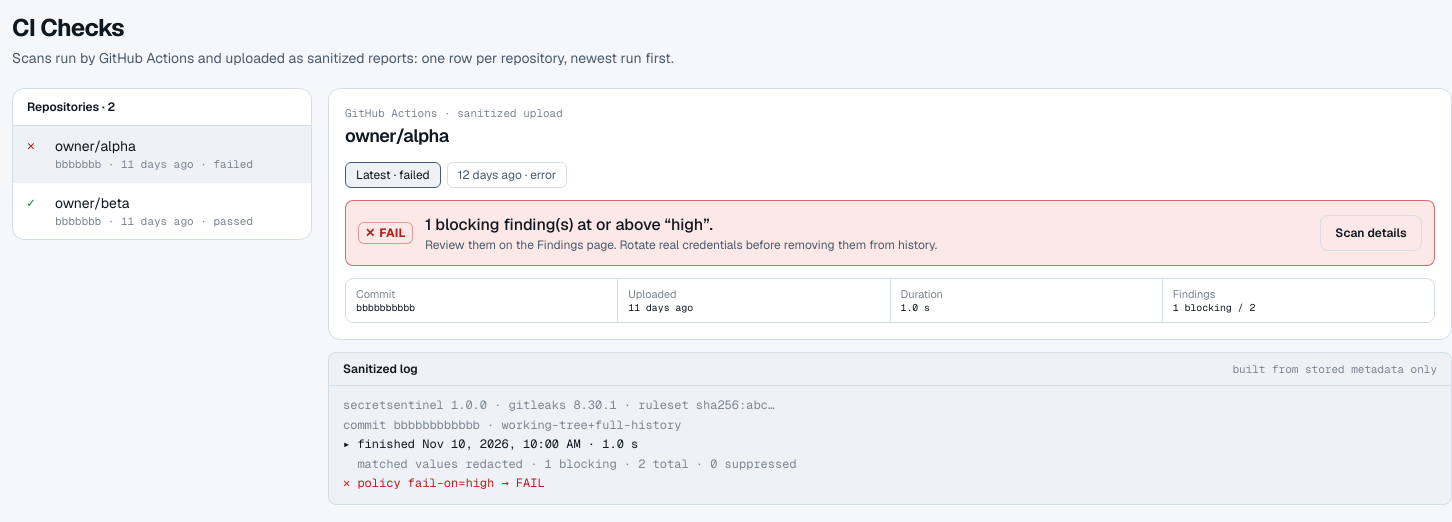
Test case: CiChecks › selects another repository from the list
Click the button "✓ owner/beta bbbbbbb · 11 days ago · passed": x=162, y=211 [13, 182, 311, 239]
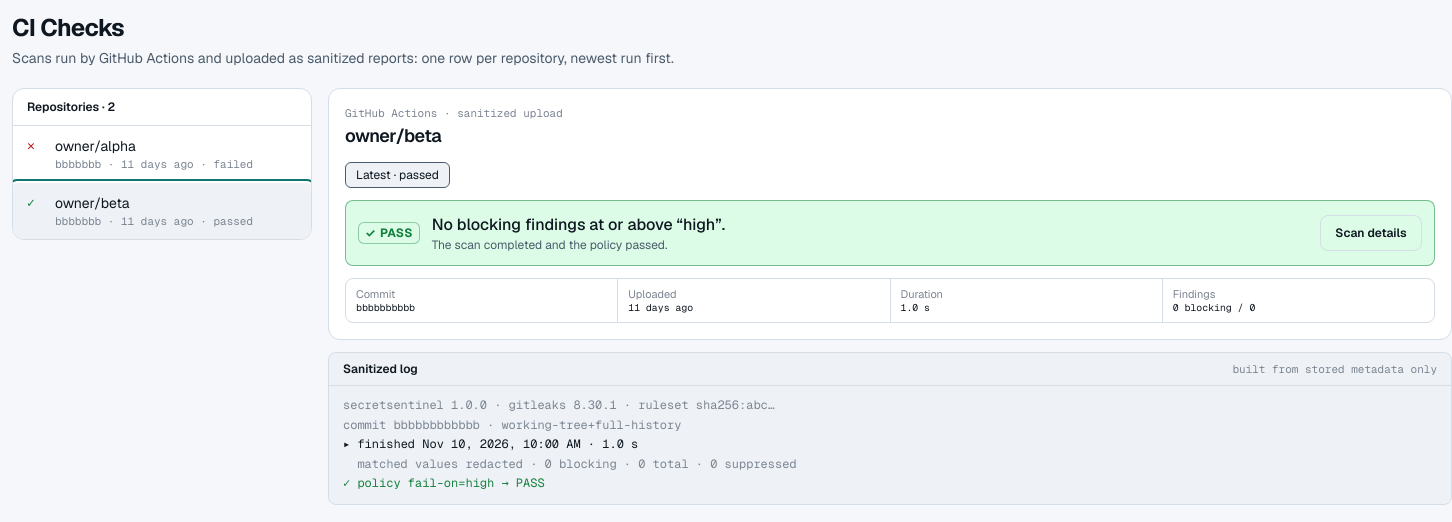
Expected: the heading "owner/beta" is shown, [345, 124, 441, 146]
Expected: the text "No blocking findings at or above “high”." is shown, [432, 214, 725, 234]
